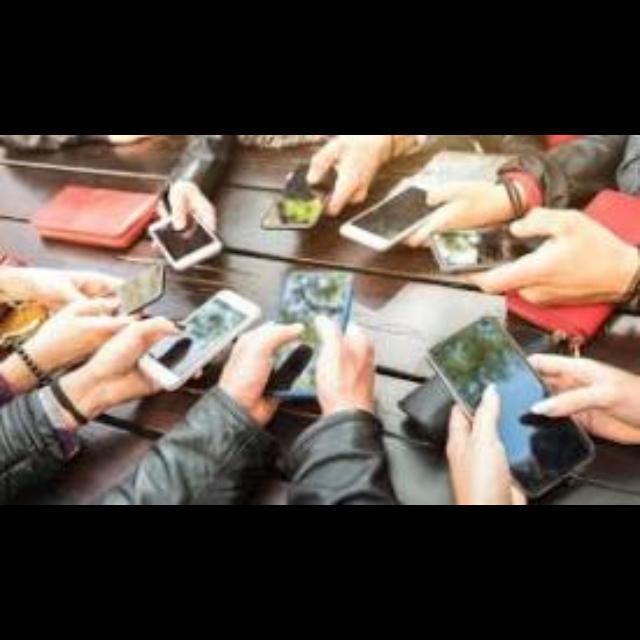phone: (398, 317, 615, 502), (335, 168, 488, 270), (130, 293, 266, 389), (277, 249, 353, 419), (247, 147, 355, 249), (49, 251, 175, 335), (125, 193, 240, 277)
